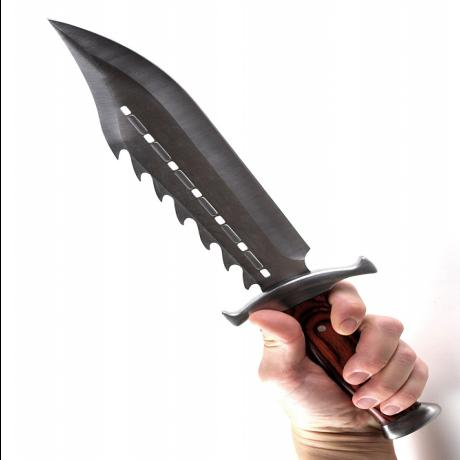1: (244, 283, 430, 460)
weapon: (40, 16, 442, 442)
